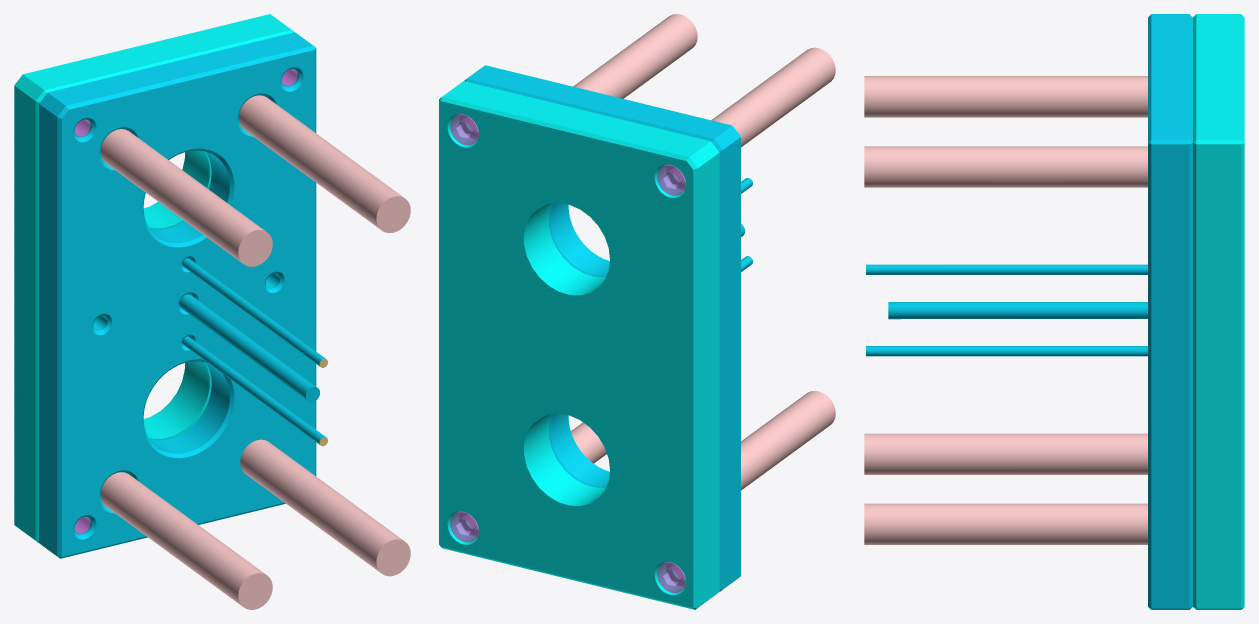
3 views of the same model, side by side, from view 1: azimuth 30°, elevation 25°; view 2: azimuth 150°, elevation 25°; view 3: azimuth 270°, elevation 25° (orthographic). The views are drawn at different scales.
Visible parts, largest first — view 1: Button_e_plate_039, Button_fm_retpin_034 (×4), Button_f_plate_033, Button_ej_pin_055 (×2), Button_ej_pin_056; view 2: Button_f_plate_033, Button_e_plate_039, Button_fm_retpin_034 (×4), Button_ej_screw_036 (×4); view 3: Button_fm_retpin_034 (×4), Button_f_plate_033, Button_e_plate_039, Button_ej_pin_055 (×2), Button_ej_pin_056.
Boxes of the visible parts, <box> form: Button_e_plate_039: <box>39,32,316,558</box>; Button_fm_retpin_034 (×4): <box>100,95,410,609</box>; Button_f_plate_033: <box>14,14,294,542</box>; Button_ej_pin_055 (×2): <box>182,258,327,446</box>; Button_ej_pin_056: <box>179,294,319,402</box>; Button_f_plate_033: <box>439,81,719,609</box>; Button_e_plate_039: <box>464,65,740,591</box>; Button_fm_retpin_034 (×4): <box>571,14,835,490</box>; Button_ej_screw_036 (×4): <box>450,113,686,592</box>; Button_fm_retpin_034 (×4): <box>864,76,1147,544</box>; Button_f_plate_033: <box>1193,14,1244,609</box>; Button_e_plate_039: <box>1148,14,1192,609</box>; Button_ej_pin_055 (×2): <box>866,264,1147,356</box>; Button_ej_pin_056: <box>888,302,1147,319</box>.
Bounding box in the file's own units: 0.09 × 0.15 × 0.11.
